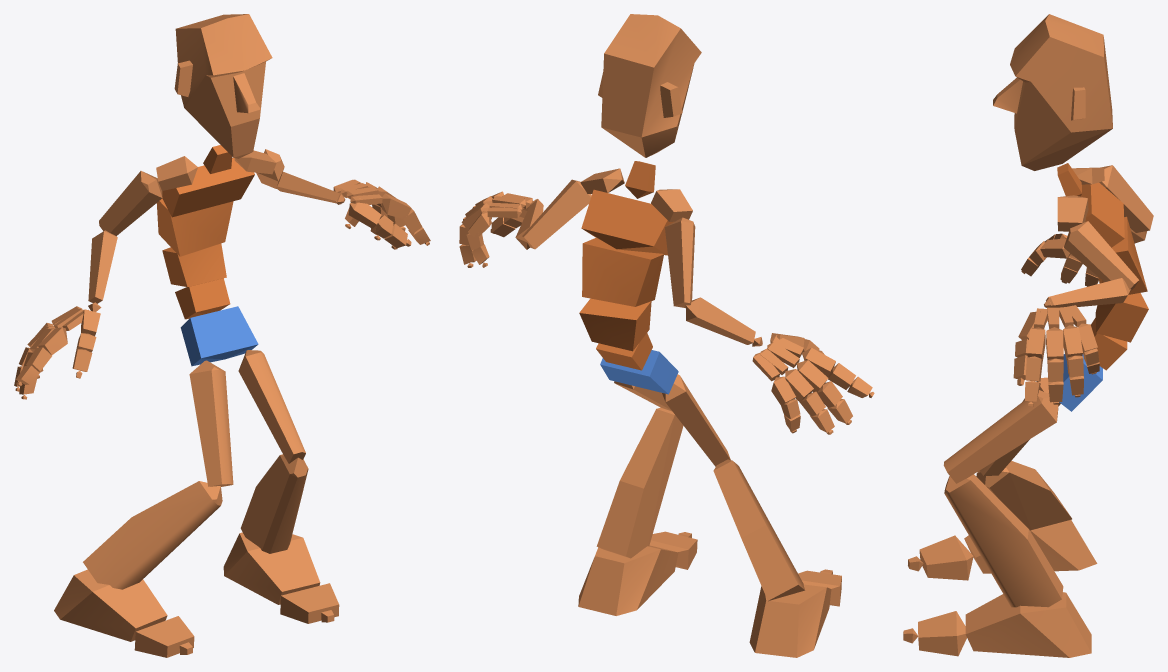
File: prueba271.obj
3 views of the same model, side by side, from view 1: azimuth 30°, elevation 25°; view 2: azimuth 150°, elevation 25°; view 3: azimuth 270°, elevation 25° (orthographic). The views are drawn at different scales.
Visible parts, largest first — view 1: BOPED_Head, BOPED_R_leg, BOPED_R_foot, BOPED_L_leg, BOPED_R_foot01, BOPED_R_legup, Bone01, BOPED_L_legup, Bone04, Bone05, BOPED_R_arm_upper, Bone03 (+8 smaller); view 2: BOPED_Head, BOPED_L_leg, BOPED_R_leg, BOPED_R_foot01, BOPED_R_foot, Bone04, Bone05, Bone03, BOPED_R_legup, BOPED_R_arm_upper, BOPED_L_arm_upper, Bone01 (+7 smaller); view 3: BOPED_Head, BOPED_L_leg, BOPED_R_foot01, BOPED_L_legup, BOPED_R_leg, BOPED_R_foot, BOPED_L_arm_upper, Bone05, BOPED_R_foot_toe01, Bone03, BOPED_R_foot_toe04, BOPED_L_arm_fore (+15 smaller).
Boxes of the visible parts, x1=… form: BOPED_Head: x1=174, y1=14, x2=272, y2=158; BOPED_R_leg: x1=83, y1=481, x2=222, y2=589; BOPED_R_foot: x1=54, y1=569, x2=167, y2=641; BOPED_L_leg: x1=240, y1=454, x2=308, y2=553; BOPED_R_foot01: x1=223, y1=532, x2=320, y2=604; BOPED_R_legup: x1=189, y1=360, x2=233, y2=486; Bone01: x1=180, y1=306, x2=258, y2=366; BOPED_L_legup: x1=238, y1=350, x2=305, y2=463; Bone04: x1=156, y1=198, x2=233, y2=256; Bone05: x1=162, y1=157, x2=254, y2=217; BOPED_R_arm_upper: x1=99, y1=171, x2=162, y2=236; Bone03: x1=162, y1=243, x2=226, y2=286; BOPED_Head: x1=598, y1=14, x2=701, y2=157; BOPED_L_leg: x1=596, y1=407, x2=683, y2=558; BOPED_R_leg: x1=713, y1=459, x2=804, y2=601; BOPED_R_foot01: x1=578, y1=545, x2=678, y2=615; BOPED_R_foot: x1=749, y1=584, x2=831, y2=657; Bone04: x1=582, y1=238, x2=663, y2=306; Bone05: x1=581, y1=189, x2=674, y2=255; Bone03: x1=579, y1=298, x2=651, y2=351; BOPED_R_legup: x1=662, y1=374, x2=730, y2=466; BOPED_R_arm_upper: x1=665, y1=217, x2=695, y2=307; BOPED_L_arm_upper: x1=522, y1=179, x2=591, y2=249; Bone01: x1=600, y1=350, x2=678, y2=394; BOPED_Head: x1=993, y1=14, x2=1112, y2=170; BOPED_L_leg: x1=944, y1=474, x2=1063, y2=607; BOPED_R_foot01: x1=965, y1=592, x2=1091, y2=657; BOPED_L_legup: x1=943, y1=390, x2=1058, y2=483; BOPED_R_leg: x1=976, y1=461, x2=1071, y2=530; BOPED_R_foot: x1=964, y1=520, x2=1097, y2=573; BOPED_L_arm_upper: x1=1064, y1=221, x2=1138, y2=291; Bone05: x1=1081, y1=182, x2=1124, y2=247; BOPED_R_foot_toe01: x1=919, y1=535, x2=973, y2=580; Bone03: x1=1095, y1=293, x2=1148, y2=342; BOPED_R_foot_toe04: x1=918, y1=611, x2=966, y2=656; BOPED_L_arm_fore: x1=1046, y1=278, x2=1130, y2=307.
Size of the model in its own units: 130 by 175 by 65.64.
